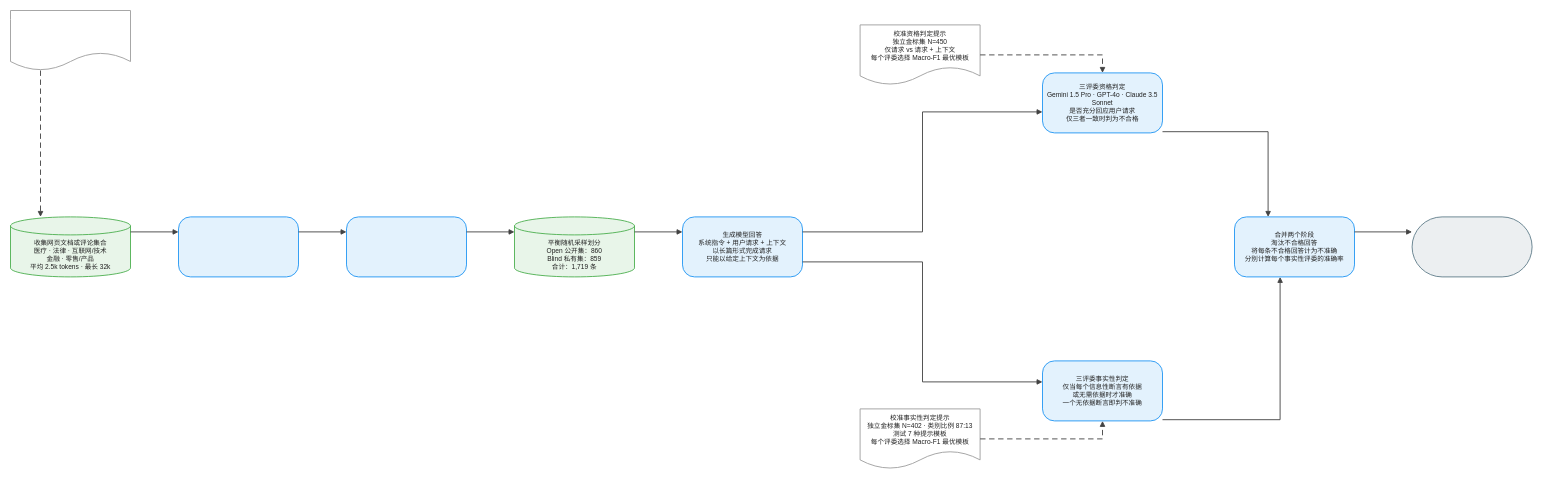
The diagram is 1543 pixels wide and 480 high, and some of its shapes have lost their labels. Here are the shapes that lost their labels. From the top down, the centre of each, then its label:
At [70,40]: "固定证据边界 arXiv:2501.03200v1 HF 数据集 @ 11b6961 FACTS Grounding 1.0 公开产物".
At [238,246]: "第三方标注员编写长输入/长输出任务 问答 · 摘要 · 文档改写 请求非平凡且可仅由上下文回答 系统指令禁止使用外部知识".
At [406,246]: "人工核验每一个样本 移除创意写作和专家知识任务 移除数学 / 逻辑 / 元分析任务 移除 OCR 不可读的 PDF 上下文".
At [1471,246]: "FACTS Grounding 事实性分数 平均准确回答率 来自三个评委 报告 Open 与 Blind 榜单 跨提供方评委 缓解自偏好".
